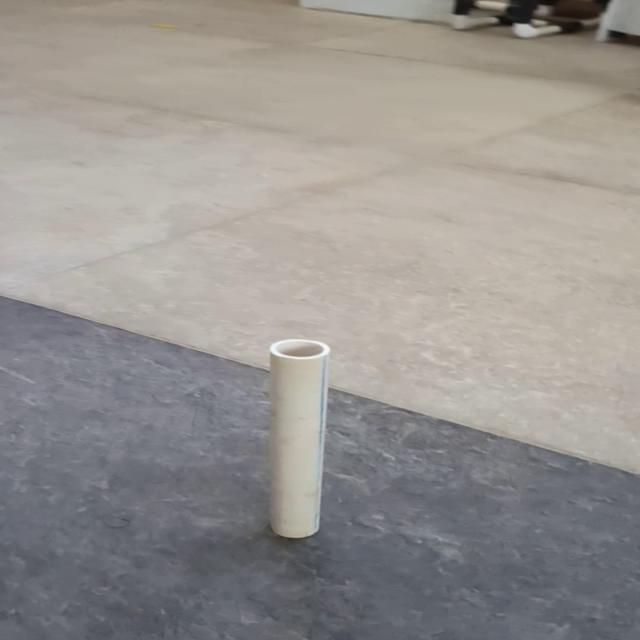Cube: (265, 338, 331, 538)
